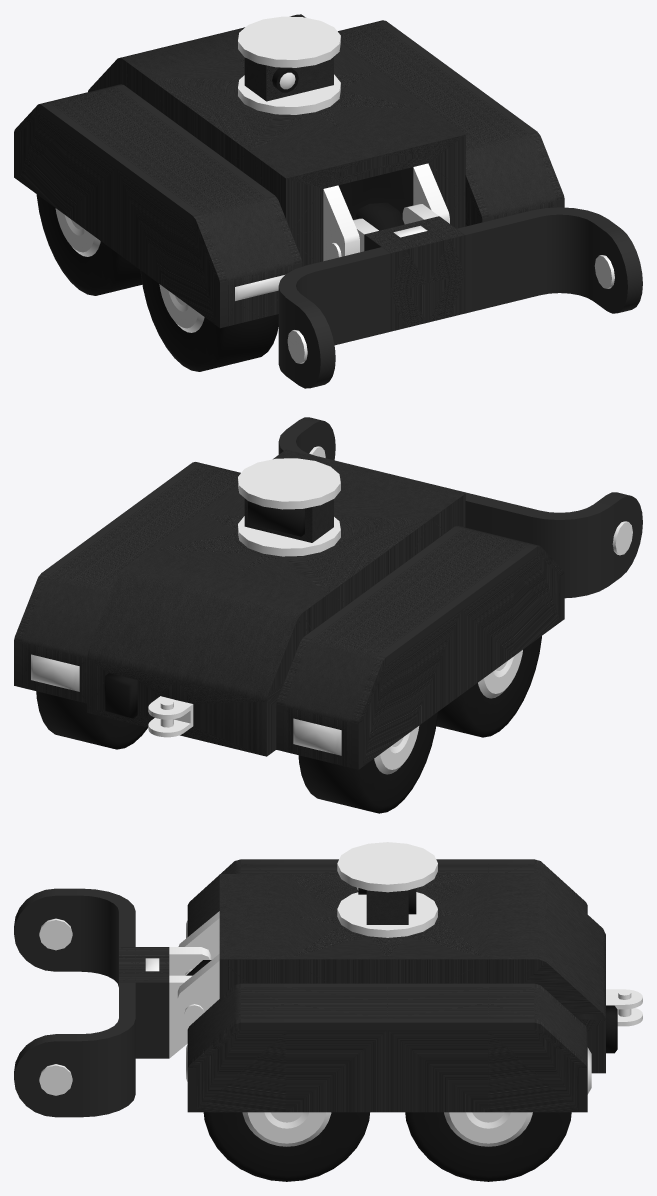
The model's file is robotank.dae.
3 views of the same model, one above another, from view 1: azimuth 30°, elevation 25°; view 2: azimuth 150°, elevation 25°; view 3: azimuth 270°, elevation 25° (orthographic). The views are drawn at different scales.
Parts seen in each view (by area): view 1: robotank_chassis_fenders, robotank_chassis_main, robotank_chassis_plow, robotank_wheel.004, robotank_wheel.001; view 2: robotank_chassis_main, robotank_chassis_fenders, robotank_chassis_plow, robotank_wheel.001, robotank_wheel.004, robotank_wheel.003; view 3: robotank_chassis_fenders, robotank_chassis_main, robotank_chassis_plow, robotank_wheel.003, robotank_wheel.002.
Boxes of the visible parts, left/top/right/bottom form: robotank_chassis_fenders: left=14, top=20, right=564, bottom=328; robotank_chassis_main: left=88, top=14, right=465, bottom=266; robotank_chassis_plow: left=278, top=202, right=642, bottom=388; robotank_wheel.004: left=140, top=270, right=278, bottom=371; robotank_wheel.001: left=36, top=194, right=142, bottom=295; robotank_chassis_main: left=87, top=449, right=465, bottom=756; robotank_chassis_fenders: left=14, top=462, right=564, bottom=769; robotank_chassis_plow: left=278, top=417, right=642, bottom=598; robotank_wheel.001: left=298, top=712, right=438, bottom=813; robotank_wheel.004: left=436, top=636, right=541, bottom=737; robotank_wheel.003: left=36, top=691, right=147, bottom=749; robotank_chassis_fenders: left=186, top=859, right=591, bottom=1112; robotank_chassis_main: left=177, top=842, right=642, bottom=1073; robotank_chassis_plow: left=14, top=888, right=211, bottom=1117; robotank_wheel.003: left=405, top=1112, right=571, bottom=1181; robotank_wheel.002: left=203, top=1112, right=369, bottom=1181.
Size of the model in its own units: 0.92 by 1.5 by 0.64.
3 materials, 1 textured.
